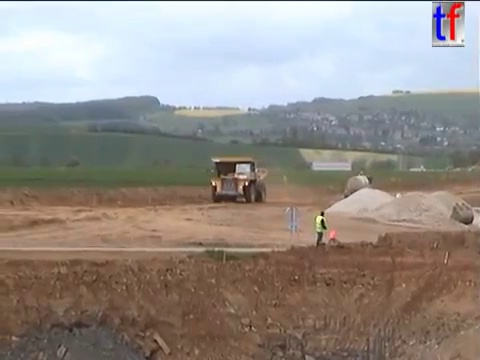truck: (206, 155, 269, 204), (342, 169, 373, 201)
worker: (313, 209, 330, 251)
